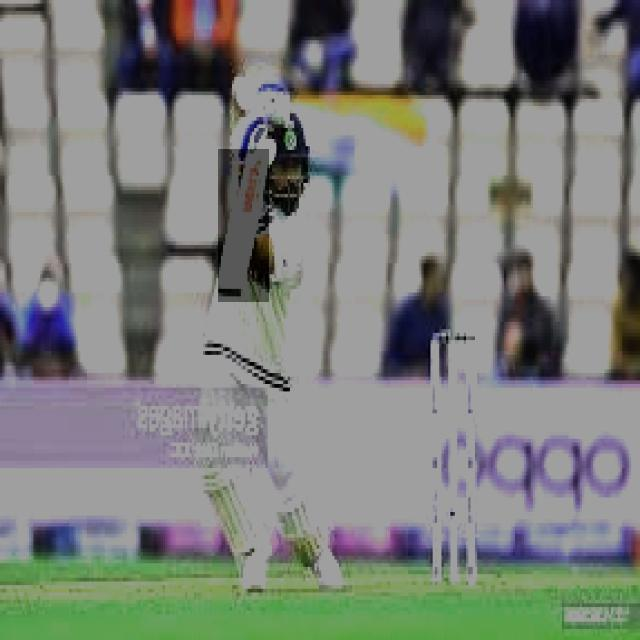bat: (215, 150, 268, 301)
toe: (213, 288, 247, 301)
